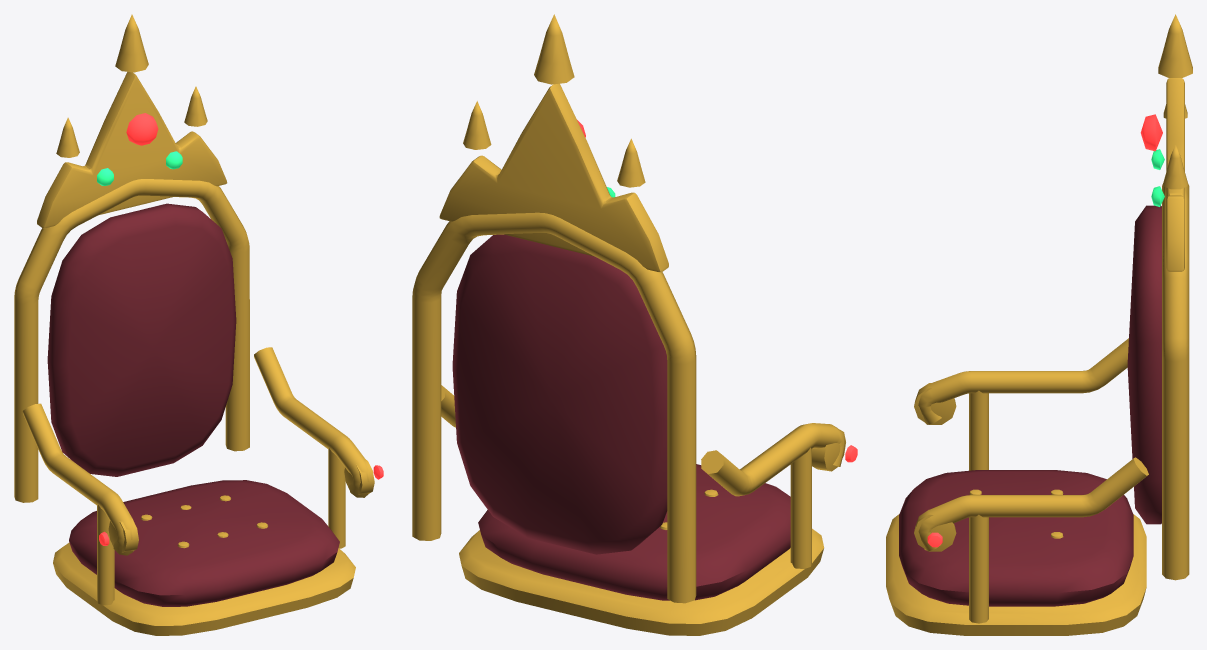
Rendered from gear_throne.glb.
The picture shows the model from 3 angles, left to right: view 1: azimuth 30°, elevation 25°; view 2: azimuth 150°, elevation 25°; view 3: azimuth 270°, elevation 25°; orthographic projection. The views are drawn at different scales.
Parts seen in each view (by area): view 1: throne; view 2: throne; view 3: throne.
Part boxes in pixels (x1=…): throne: x1=14, y1=14, x2=383, y2=635; throne: x1=412, y1=14, x2=857, y2=635; throne: x1=886, y1=14, x2=1192, y2=635.
Bounding box in the file's own units: 0.5734 × 0.99 × 0.4914.
